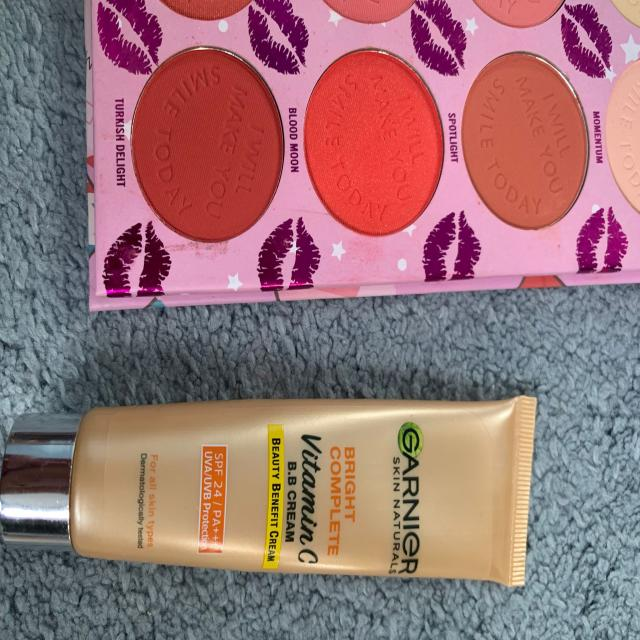bb cream: (0, 380, 551, 604)
eye shade: (92, 3, 640, 298)
